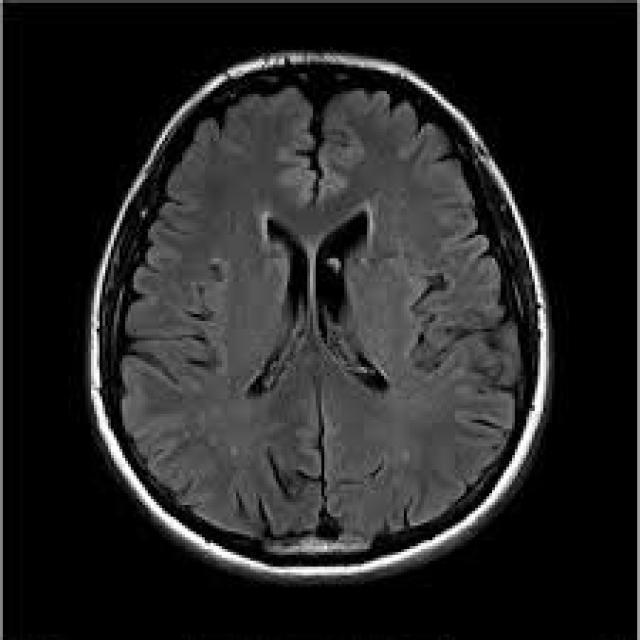No_Tumor: (89, 52, 550, 579)
